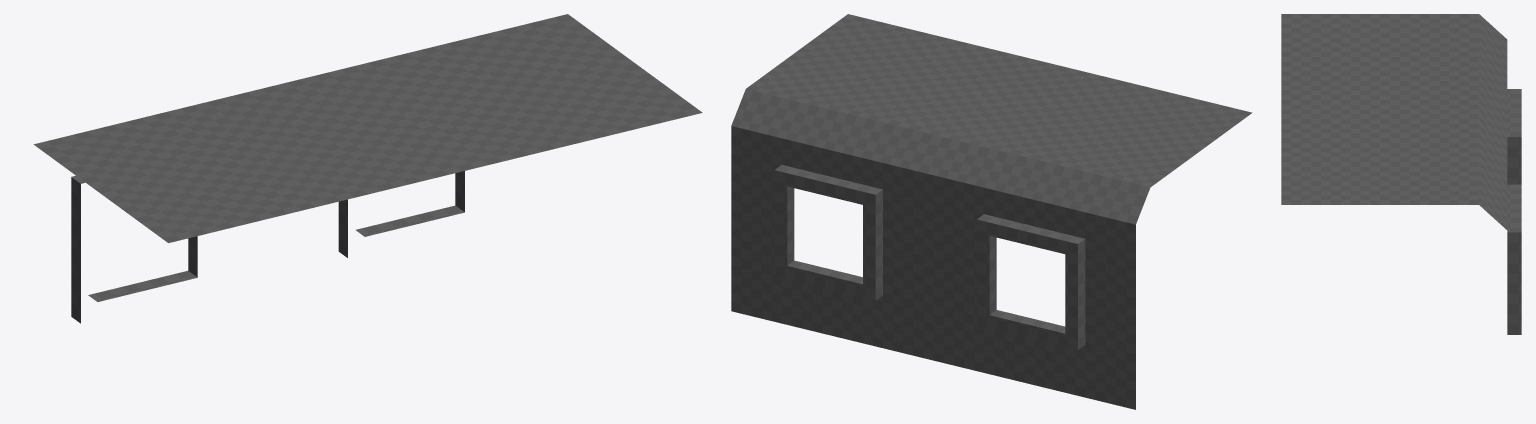
3 views of the same model, side by side, from view 1: azimuth 30°, elevation 25°; view 2: azimuth 150°, elevation 25°; view 3: azimuth 270°, elevation 25° (orthographic). The views are drawn at different scales.
Parts seen in each view (by area): view 1: CubeUpBackV2; view 2: CubeUpBackV2; view 3: CubeUpBackV2.
Boxes of the visible parts, x1,y1,x2,y2 form: CubeUpBackV2: [33, 14, 702, 323]; CubeUpBackV2: [731, 14, 1252, 409]; CubeUpBackV2: [1281, 14, 1521, 334].
Bounding box in the file's own units: 4 × 2 × 2.12.
1 material, 1 textured.
